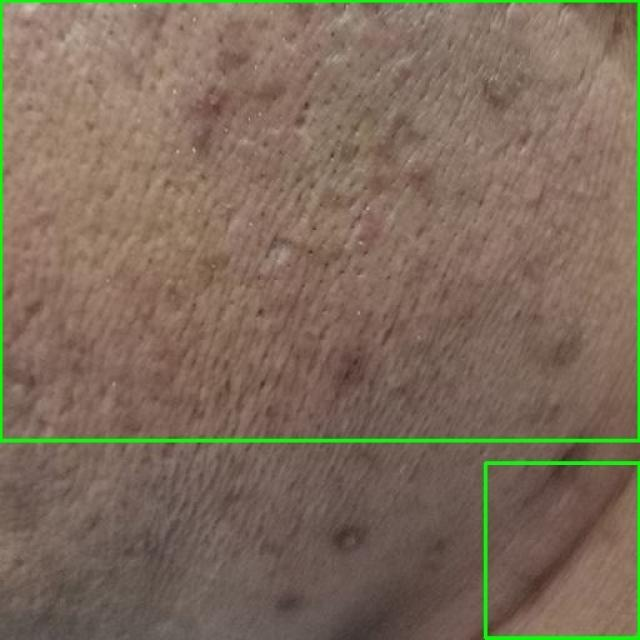Eczema: (0, 0, 639, 440), (485, 464, 639, 639)
